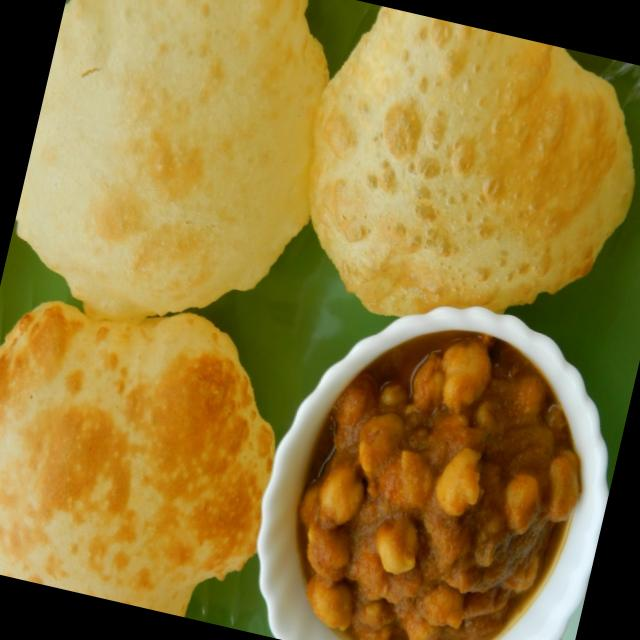Bhatura: (277, 0, 640, 363), (0, 0, 345, 358), (0, 272, 303, 629)
Chole: (272, 317, 609, 640)
